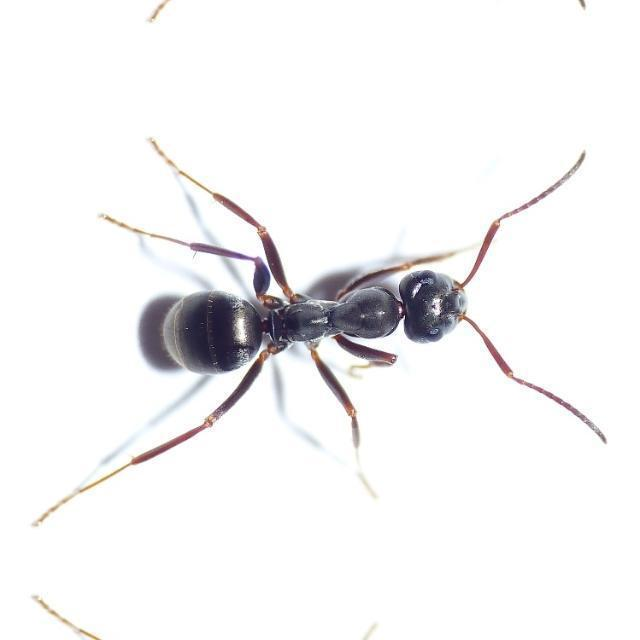Formica: (145, 216, 499, 416)
